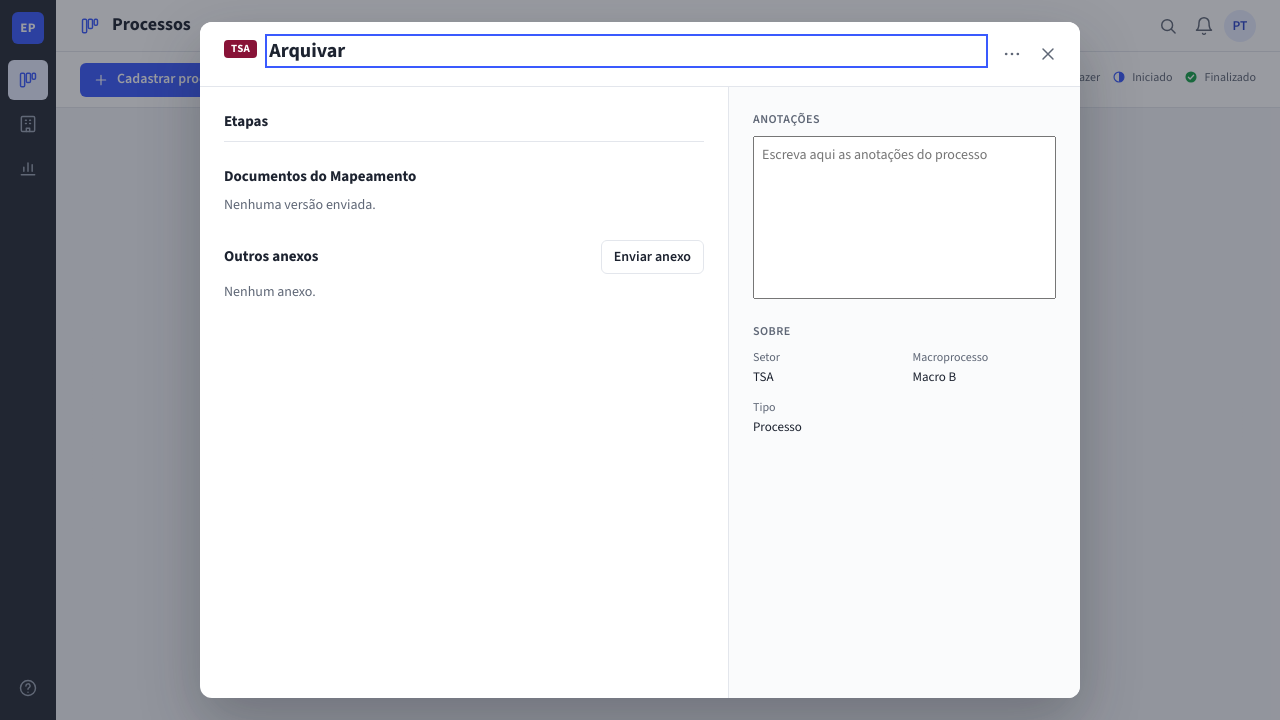
Test: processo vira subprocesso: passa ao macroprocesso do pai e o painel mostra o pai
The image size is (1280, 720).
Click the button named "Ações do processo". click: (1012,54)
box: [996, 38, 1028, 70]
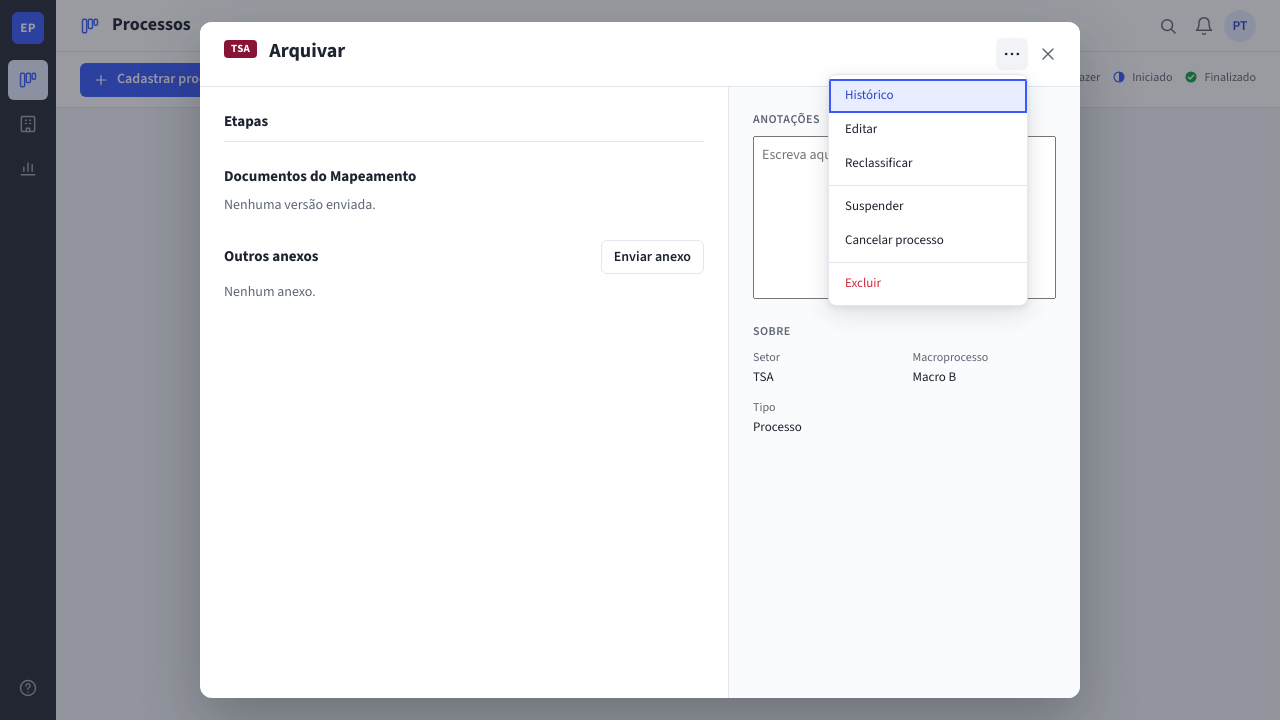
Click the menu item "Reclassificar". click: (928,164)
box: [829, 147, 1027, 181]
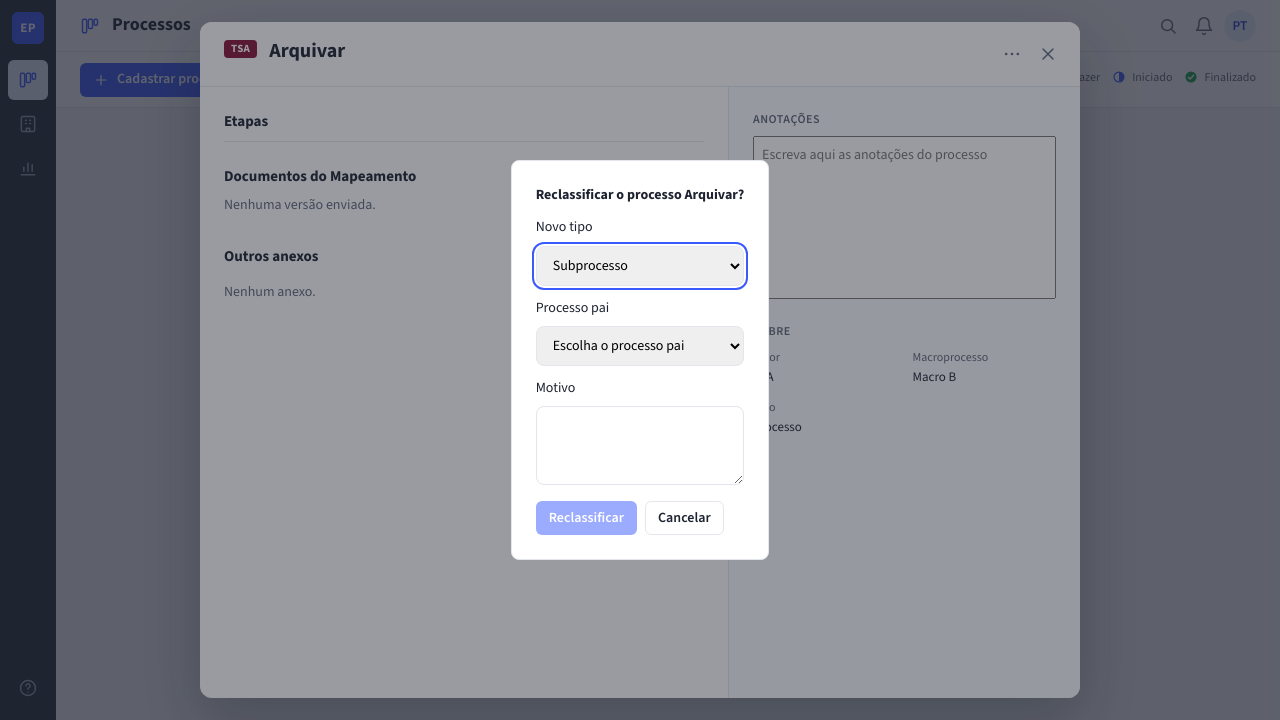
Select "TSA — Emitir Ofício" in the dropdown labelled "Processo pai". click: (640,346)
box: [536, 326, 744, 366]
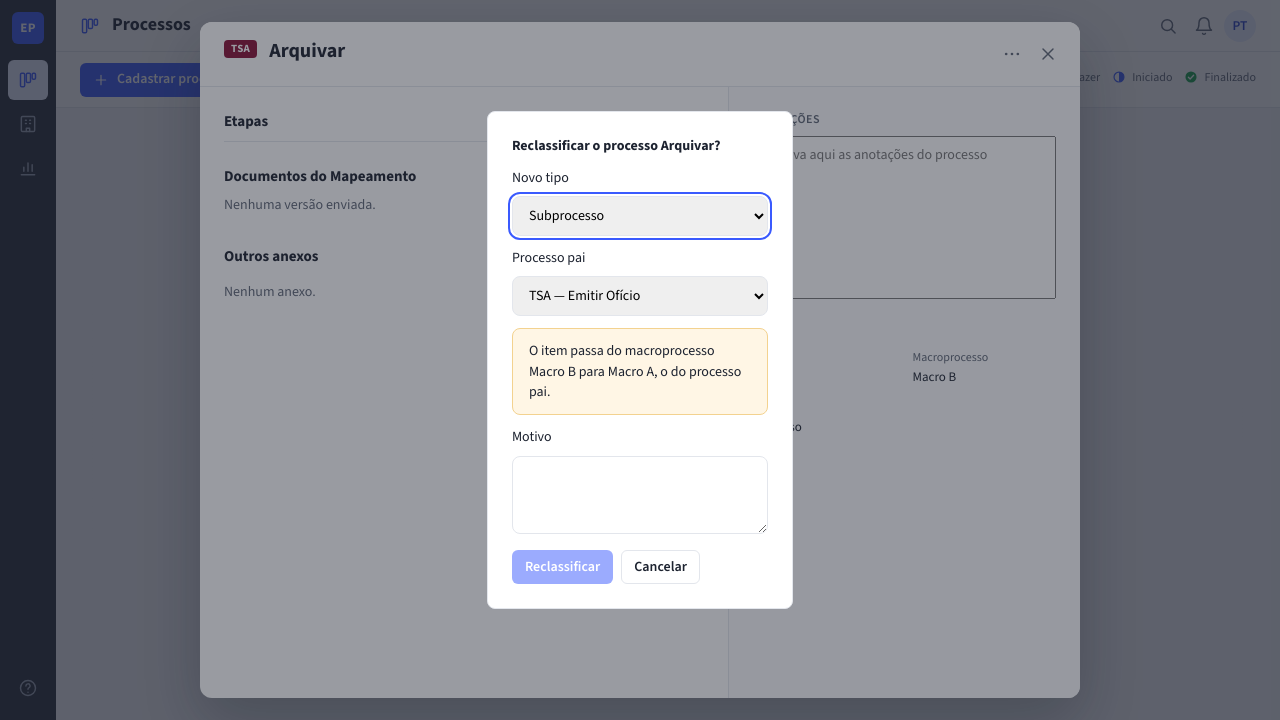
Type "Faz parte do Emitir Ofício" into the text box labelled "Motivo". click: (640,495)
box: [512, 456, 768, 534]
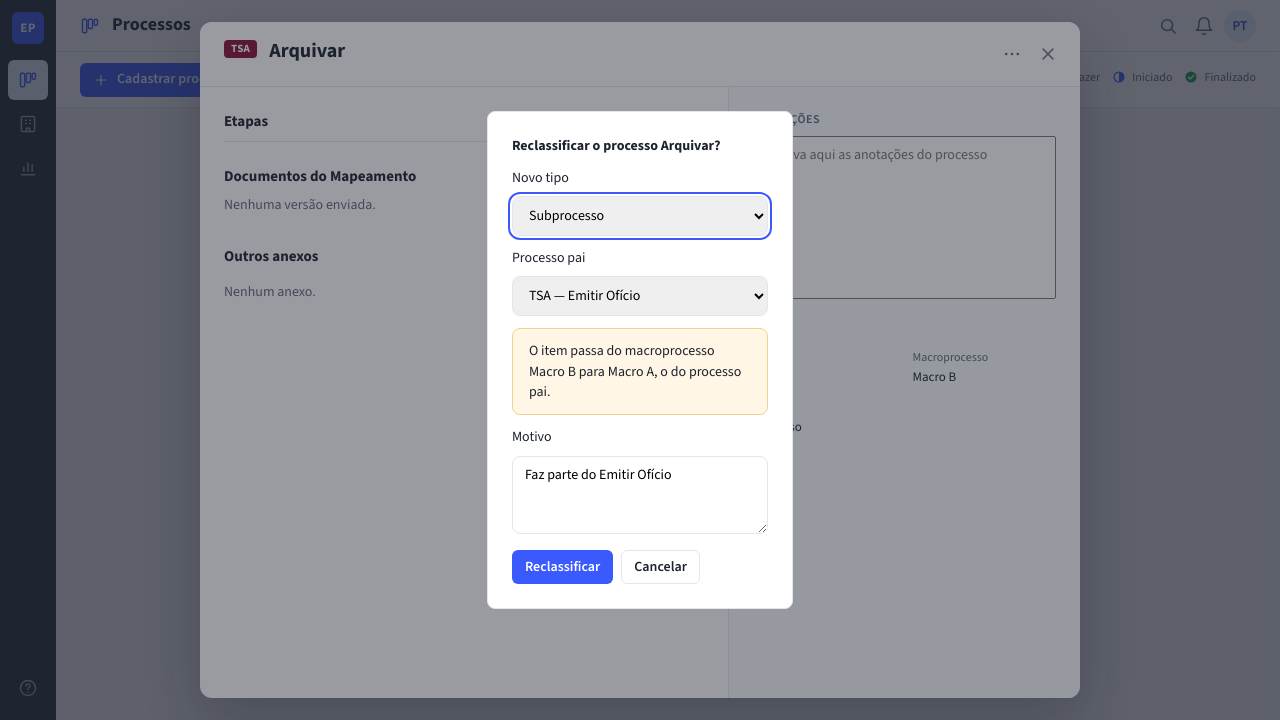
Click the button "Reclassificar". click: (563,568)
box: [512, 550, 613, 584]
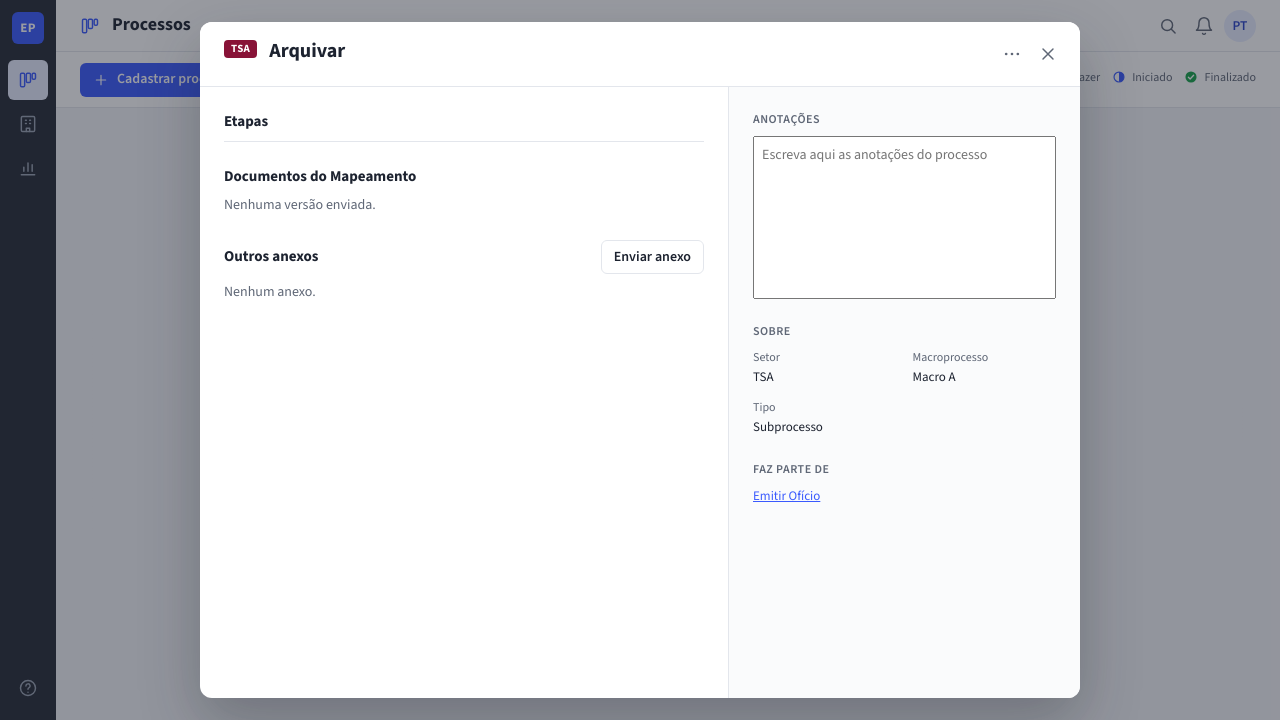
Expected: the link "Emitir Ofício" is shown, [753, 486, 820, 504]
Expected: the text "Macro A" is shown, [912, 368, 956, 386]
